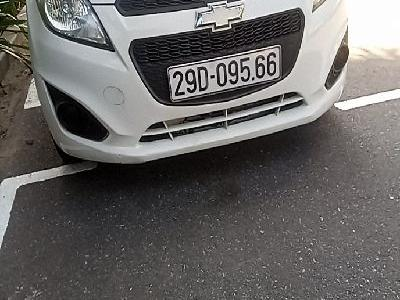number: (168, 44, 279, 100)
